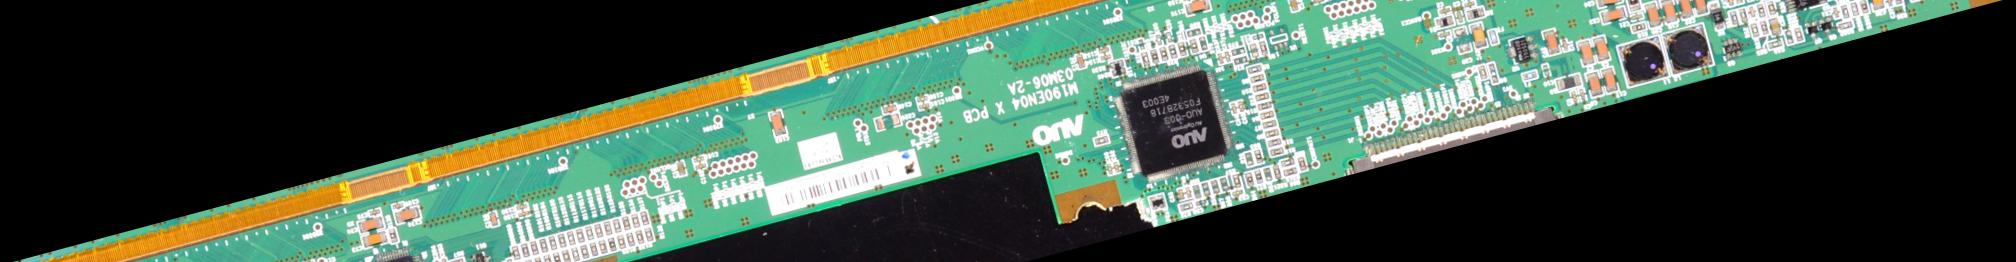Capacitor Jumper: (363, 230, 390, 248), (357, 214, 384, 232), (769, 110, 787, 136), (876, 113, 901, 131), (1601, 6, 1626, 24), (1557, 73, 1583, 91), (1578, 41, 1596, 65), (395, 205, 419, 223), (1471, 23, 1488, 49), (1644, 3, 1661, 28), (1543, 30, 1560, 55), (1587, 72, 1603, 98), (1184, 0, 1211, 15), (1661, 0, 1678, 24), (1602, 68, 1619, 92), (1594, 36, 1610, 60), (1677, 0, 1695, 21), (1691, 0, 1709, 15), (1768, 18, 1782, 36), (1248, 42, 1261, 60), (1868, 0, 1887, 12), (1597, 0, 1623, 8), (882, 103, 897, 114), (1479, 65, 1488, 81), (1076, 55, 1085, 69), (678, 162, 687, 176), (490, 212, 499, 226), (1237, 100, 1246, 113), (1578, 87, 1587, 100), (392, 202, 405, 211), (1290, 0, 1299, 12), (518, 209, 530, 218), (1832, 6, 1841, 18), (917, 95, 930, 103), (516, 203, 528, 211), (918, 101, 931, 109), (1230, 103, 1238, 116), (369, 208, 382, 216), (693, 155, 705, 163), (1464, 0, 1476, 8), (1185, 188, 1193, 199), (1224, 50, 1230, 63), (1439, 8, 1452, 14), (1233, 189, 1243, 197), (1101, 54, 1112, 60), (1218, 53, 1224, 64), (1457, 12, 1463, 23), (1632, 14, 1643, 21), (1107, 163, 1113, 175), (1571, 91, 1578, 103), (1099, 48, 1110, 54), (696, 163, 706, 170), (1563, 40, 1569, 51), (1113, 162, 1119, 173), (1887, 0, 1895, 8), (1179, 189, 1184, 200), (1440, 32, 1450, 37), (1313, 0, 1326, 4), (1727, 0, 1734, 6), (1747, 0, 1761, 3), (1182, 0, 1194, 3), (442, 258, 450, 261), (302, 259, 315, 261)
IC: (1120, 74, 1221, 179), (1785, 0, 1826, 17), (372, 250, 420, 261)
Resistor Jumper: (630, 213, 642, 230), (1243, 152, 1255, 168), (1110, 58, 1125, 69), (1266, 137, 1283, 148), (1201, 182, 1211, 199), (1112, 67, 1128, 77), (1259, 109, 1274, 119), (1767, 0, 1777, 15), (1738, 9, 1749, 24), (1272, 166, 1282, 181), (1283, 167, 1299, 177), (1839, 21, 1854, 31), (388, 229, 399, 243), (1167, 45, 1178, 59), (1189, 39, 1200, 53), (1232, 46, 1246, 57), (510, 245, 521, 259), (521, 244, 531, 258), (1248, 64, 1263, 74), (571, 247, 581, 261), (1265, 128, 1279, 139), (1759, 21, 1769, 35), (1841, 5, 1851, 19), (1850, 3, 1860, 17), (1297, 157, 1308, 171), (1187, 28, 1202, 37), (1149, 49, 1158, 64), (1178, 41, 1187, 57), (1260, 41, 1269, 57), (539, 238, 548, 253), (567, 231, 576, 247), (576, 229, 585, 244), (1254, 91, 1269, 100), (1094, 136, 1110, 145), (1256, 101, 1272, 110), (1731, 12, 1740, 27), (1269, 148, 1284, 157), (1211, 179, 1220, 194), (1179, 203, 1194, 212), (1140, 53, 1151, 65), (1219, 179, 1229, 191), (1769, 40, 1782, 50), (594, 223, 603, 238), (531, 240, 540, 254), (622, 216, 631, 230), (585, 227, 594, 241), (558, 234, 567, 248), (548, 236, 557, 250), (1233, 57, 1247, 65), (607, 238, 616, 252), (645, 227, 654, 241), (635, 230, 644, 244), (590, 241, 599, 256), (1632, 23, 1646, 32), (1758, 4, 1767, 18), (1255, 150, 1264, 164), (1751, 23, 1760, 37), (1859, 0, 1868, 14), (1281, 158, 1295, 167), (1233, 175, 1242, 189), (1193, 185, 1202, 199), (1254, 170, 1263, 184), (1246, 173, 1255, 188), (1795, 28, 1804, 42), (562, 249, 572, 261), (553, 250, 564, 261), (1158, 48, 1167, 60), (1254, 83, 1266, 92), (1263, 119, 1275, 128), (642, 211, 649, 225), (604, 221, 612, 235), (627, 232, 635, 247), (599, 239, 607, 253), (581, 244, 589, 258), (1251, 74, 1265, 82), (1196, 199, 1207, 208), (613, 220, 621, 232), (617, 235, 625, 248), (1165, 31, 1173, 42), (1156, 33, 1164, 45), (543, 254, 554, 261), (1893, 0, 1903, 6), (534, 256, 544, 261), (1733, 0, 1743, 5), (450, 259, 465, 261)
